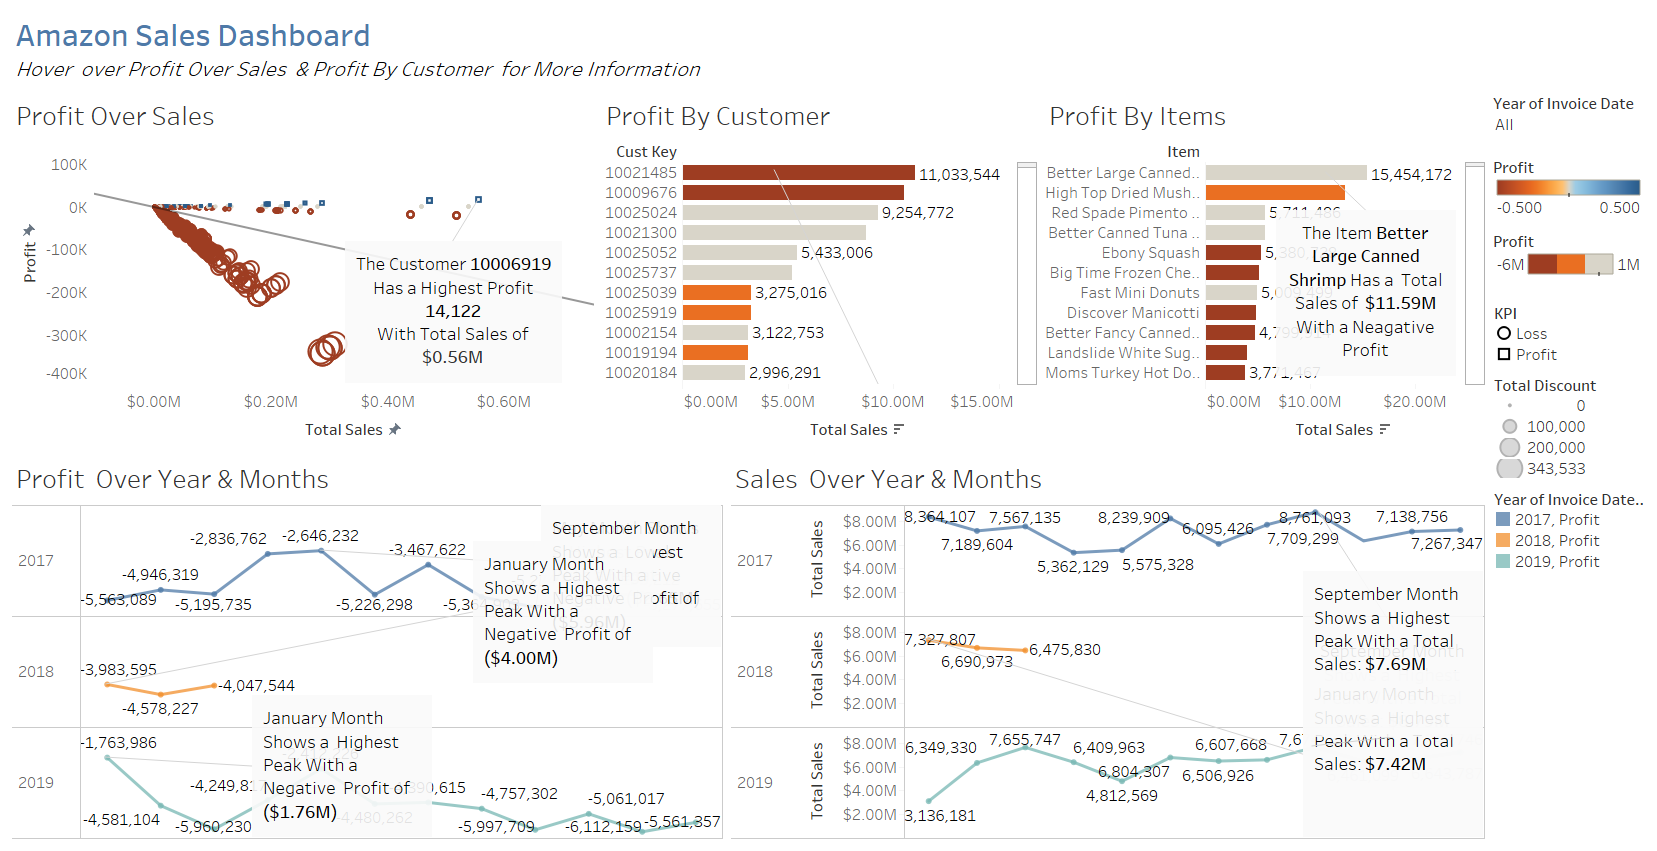

The dashboard page shown, as its layout file describes it:
{"tool":"tableau","page":{"name":"Customer Dashboard","canvas":[1000,1000],"units":"permille","ordinal":0},"visuals":[{"type":"text","box":[4.8,9.4,990.3,94]},{"type":"worksheet","title":"Profit Over Sales","mark":"Automatic","rows":["Profit"],"cols":["Total Sales"],"box":[4.8,103.4,356.1,426.1]},{"type":"worksheet","title":"Sales By Customer","mark":"Automatic","rows":["CustKey"],"cols":["Total Sales"],"box":[360.9,103.4,267.4,426.1]},{"type":"worksheet","title":"Sales  By Items","mark":"Automatic","rows":["Item"],"cols":["Total Sales"],"box":[628.2,103.4,270.4,426.1]},{"type":"filter","title":"Profit Over Sales","param":"[federated.0ecjack1chjh4a12fkh7a0i64tfm].[yr:Invoice Date:ok]","box":[898.6,103.4,96.6,71.7]},{"type":"legend","title":"Profit Over Sales","param":"[federated.0ecjack1chjh4a12fkh7a0i64tfm].[sum:Profit:qk]","box":[898.6,175.1,96.6,85.8]},{"type":"legend","title":"Sales  By Items","param":"[federated.0ecjack1chjh4a12fkh7a0i64tfm].[sum:Profit:qk]","box":[898.6,260.9,96.6,85.8]},{"type":"legend","title":"Profit Over Sales","param":"[federated.0ecjack1chjh4a12fkh7a0i64tfm].[none:Calculation_972777524929589250:nk","box":[898.6,346.7,96.6,84.6]},{"type":"legend","title":"Profit Over Sales","param":"[federated.0ecjack1chjh4a12fkh7a0i64tfm].[sum:Total Discount:qk]","box":[898.6,431.3,96.6,134]},{"type":"worksheet","title":"Profit  Over Year & Months","mark":"Automatic","rows":["Invoice Date","Profit"],"cols":["Invoice Date"],"box":[4.8,529.5,433.9,461.1]},{"type":"worksheet","title":"Sales  Over Year & Months ","mark":"Automatic","rows":["Invoice Date","Total Sales"],"cols":["Invoice Date"],"box":[438.7,529.5,459.9,461.1]},{"type":"legend","title":"Profit  Over Year & Months","param":"[federated.0ecjack1chjh4a12fkh7a0i64tfm].[yr:Invoice Date:ok]\n[federated.0ecjack","box":[898.6,565.2,96.6,109.3]}]}

Visuals, with their boxes on the dashboard's canvas, which has no fixed pixel size, in thousandths of its width and height (x1, y1, x2, y2). These are canvas units, not pixel positions in the 1657x851 screenshot, which may show the page scaled, cropped or inside an application window:
text: [5,9,995,103]
"Profit Over Sales" worksheet: [5,103,361,530]
"Sales By Customer" worksheet: [361,103,628,530]
"Sales  By Items" worksheet: [628,103,899,530]
"Profit Over Sales" filter: [899,103,995,175]
"Profit Over Sales" legend: [899,175,995,261]
"Sales  By Items" legend: [899,261,995,347]
"Profit Over Sales" legend: [899,347,995,431]
"Profit Over Sales" legend: [899,431,995,565]
"Profit  Over Year & Months" worksheet: [5,530,439,991]
"Sales  Over Year & Months " worksheet: [439,530,899,991]
"Profit  Over Year & Months" legend: [899,565,995,674]
